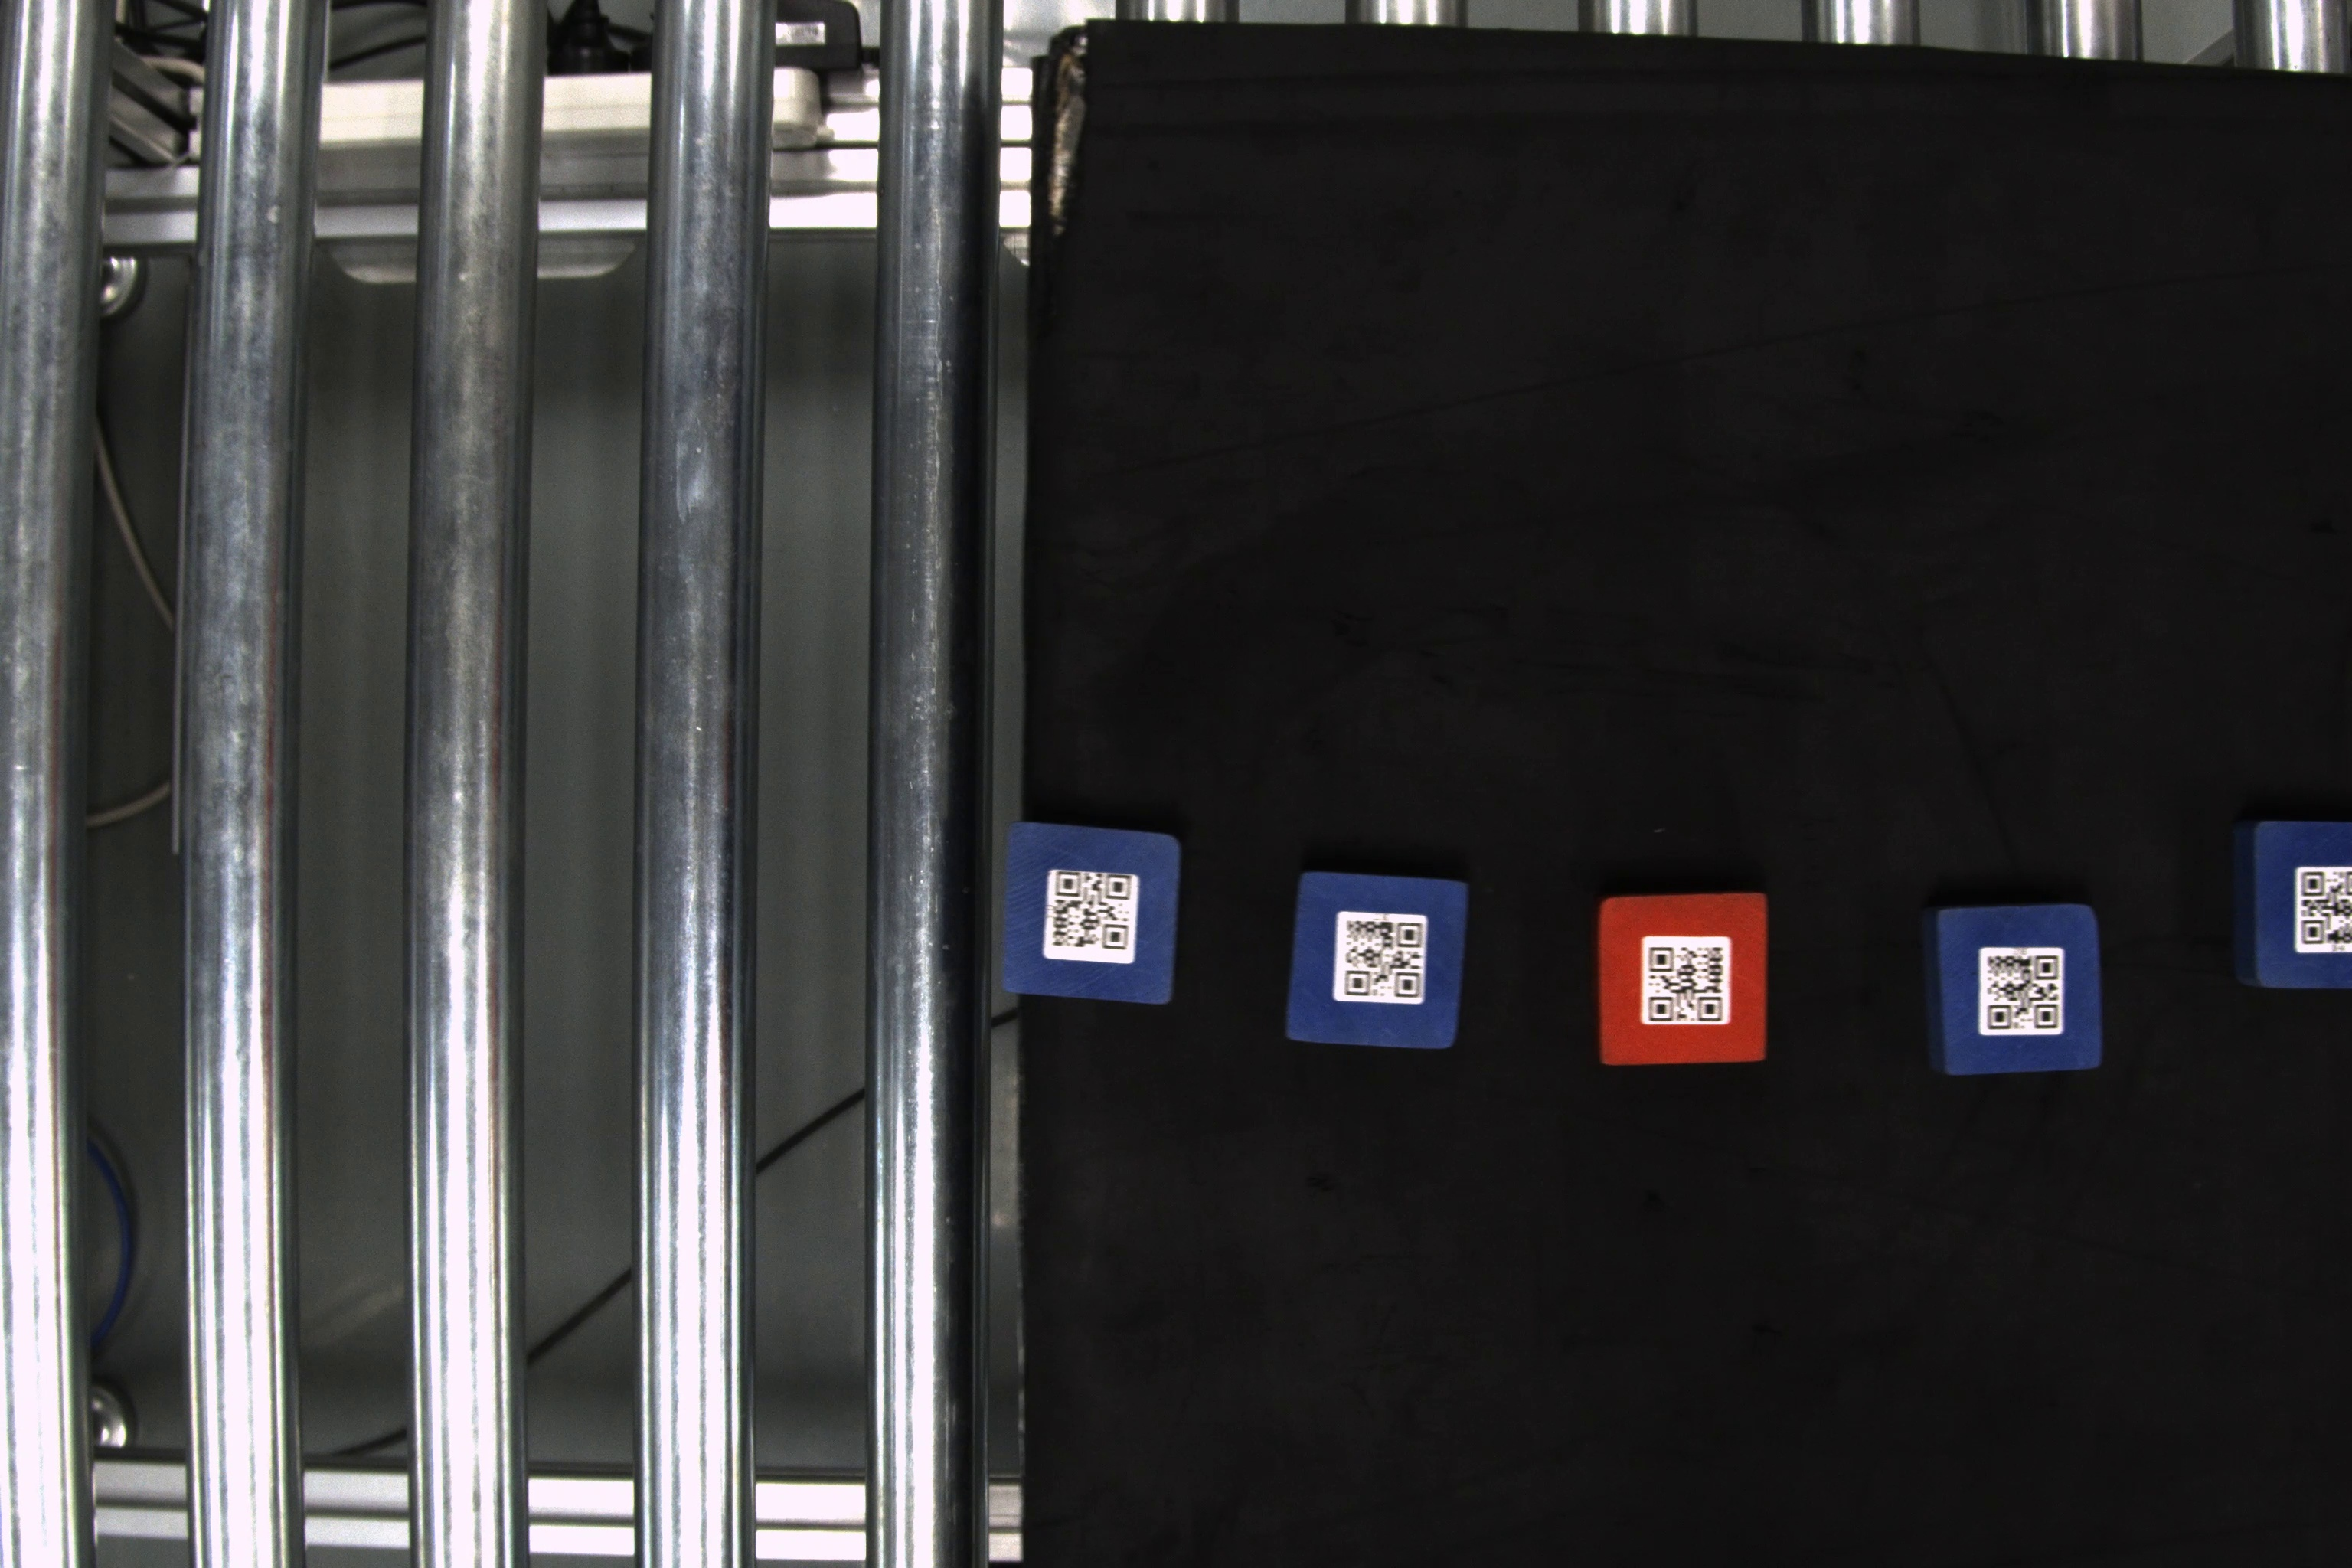wood: (997, 817, 1185, 1006), (1286, 868, 1472, 1059), (1923, 899, 2114, 1074), (1596, 891, 1773, 1069), (2228, 819, 2347, 996)
